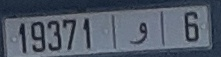1: (81, 16, 93, 50), (17, 22, 28, 55)
3: (46, 19, 63, 52)
6: (182, 9, 200, 43)
7: (62, 18, 77, 51)
9: (29, 21, 47, 53)
waw: (127, 21, 150, 46)
